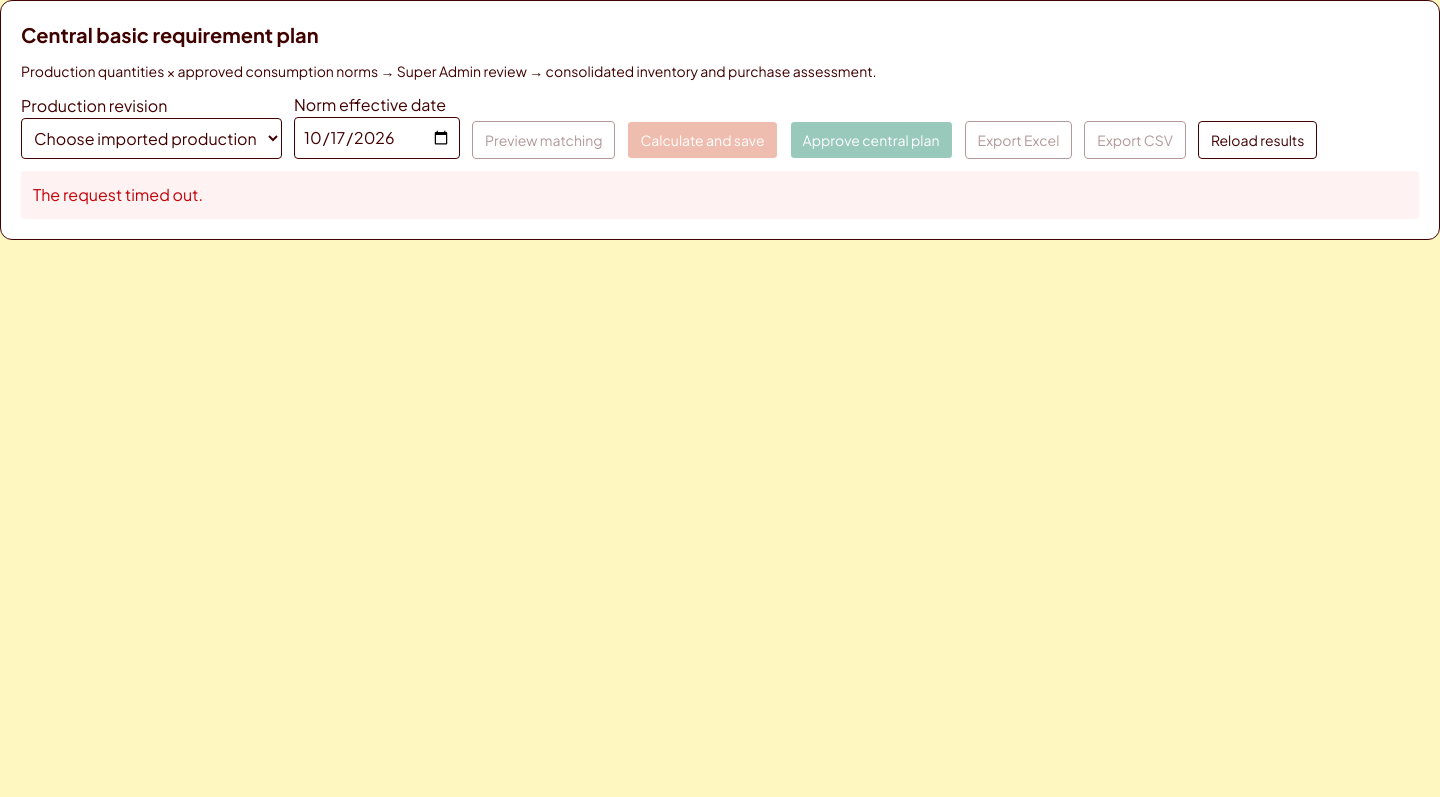
an initial revision-list timeout can recover without a page reload or another save
This screenshot has width=1440, height=797.
Check: the message "The request timed out." is shown, box [21,171,1419,219]
Click the button "Reload results" at (1258, 140), box [1198,121,1317,159]
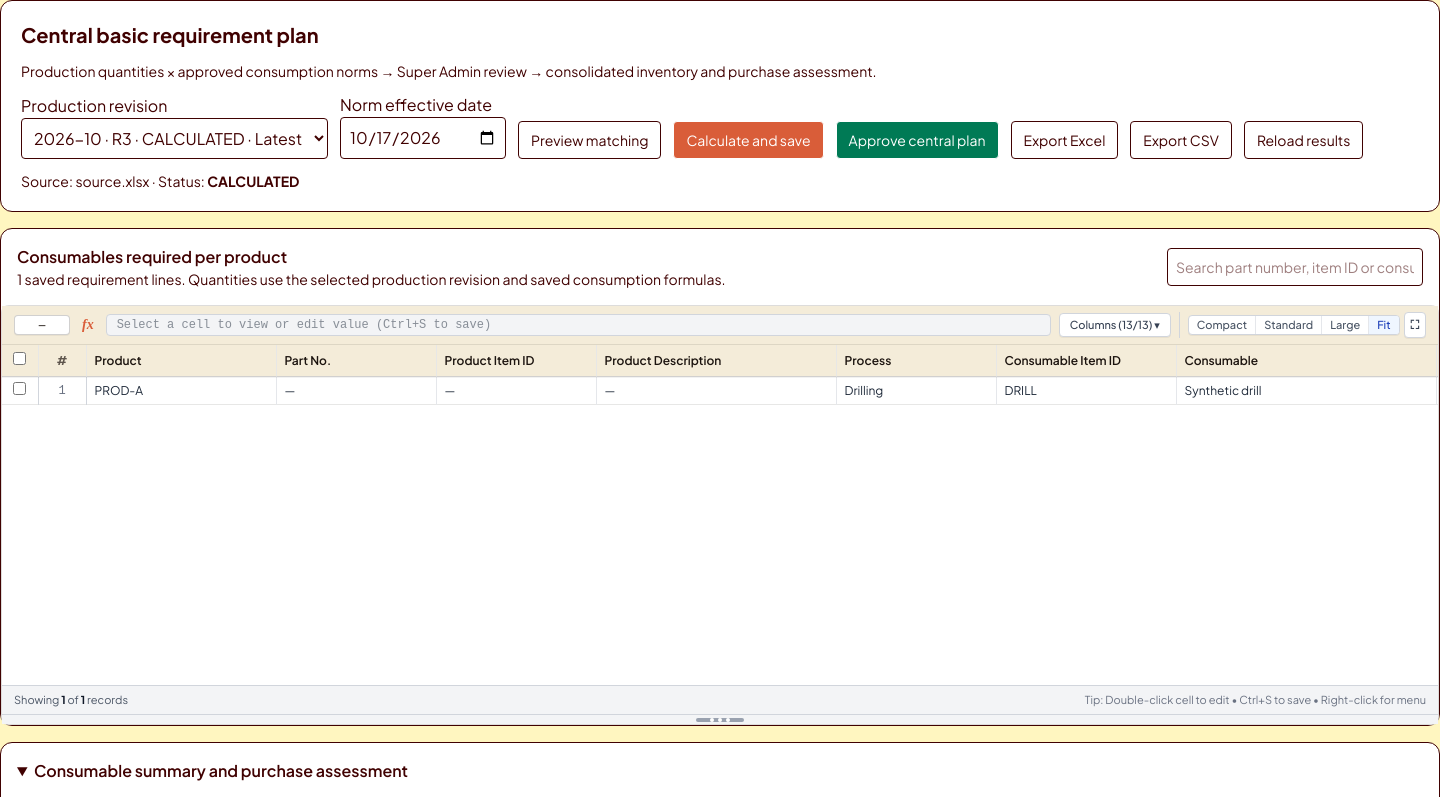
Check: the cell "PROD-A" is shown, box [86,376,276,404]
Check: the message "The request timed out." is gone
